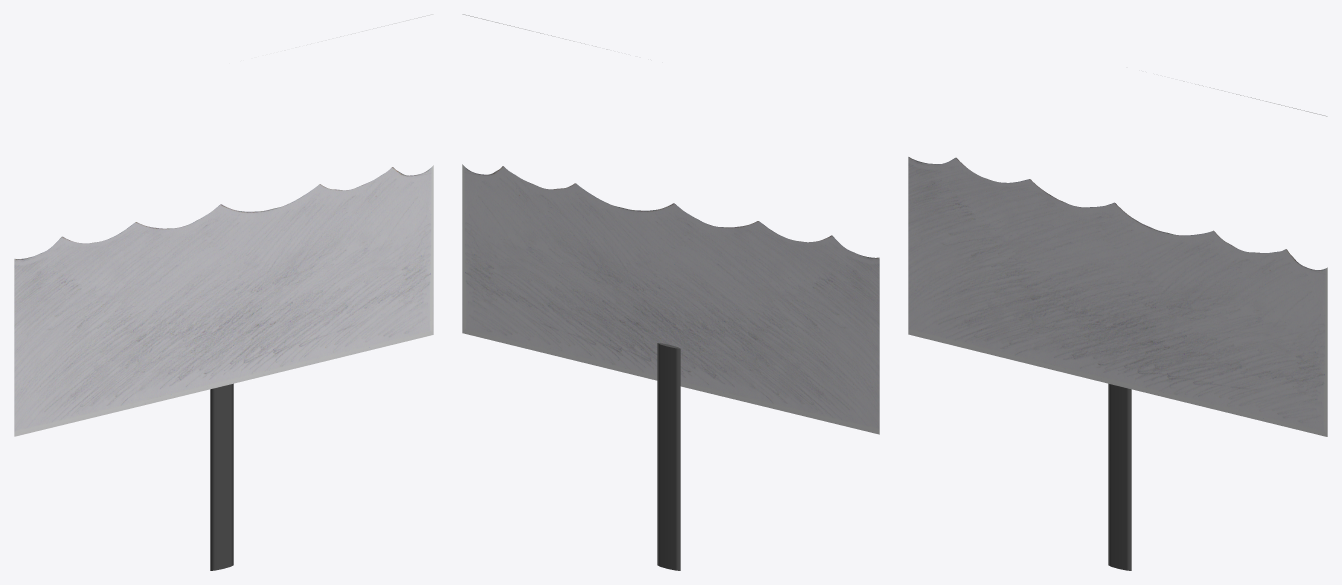
Rendered from WaterUnderBridge.fbx.
3 renders of one model, left to right at view 1: azimuth 30°, elevation 25°; view 2: azimuth 150°, elevation 25°; view 3: azimuth 330°, elevation 25°, orthographic.
Parts seen in each view (by area): view 1: WaterUnderBridgePaper, Stick; view 2: WaterUnderBridgePaper, Stick; view 3: WaterUnderBridgePaper, Stick.
Part boxes in pixels (x1,y1,x2,y2): WaterUnderBridgePaper: (14,14,433,436); Stick: (210,383,233,570); WaterUnderBridgePaper: (462,14,879,434); Stick: (657,343,680,570); WaterUnderBridgePaper: (908,81,1327,436); Stick: (1108,383,1131,570).
Bounding box in the file's own units: 34.68 × 39.85 × 0.4539.
2 materials, 1 textured.
